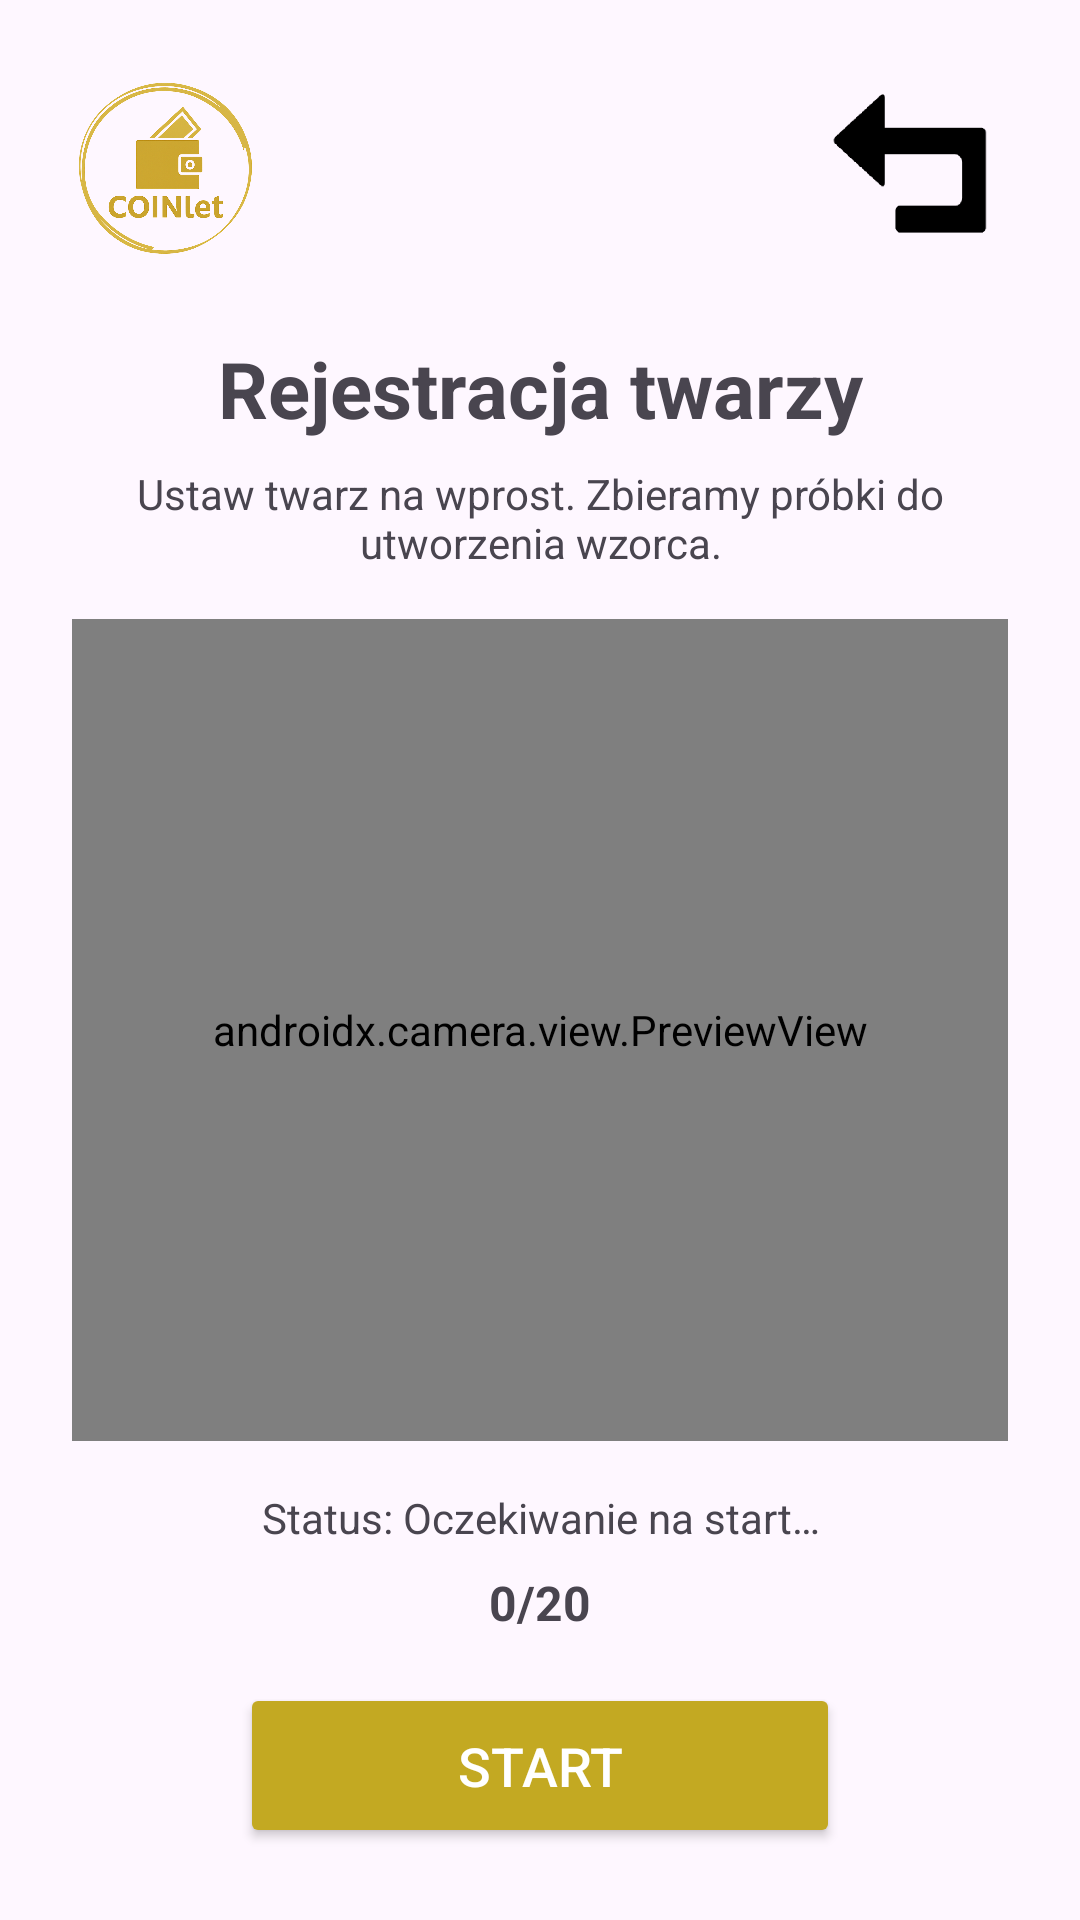

Screen size 1080×1920. Icon name, then its center in pixels as (x,y):
back: (910,163)
